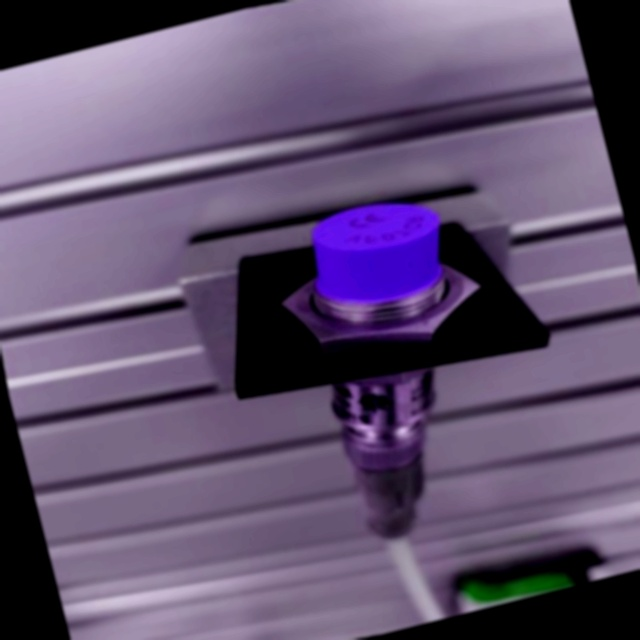inductive sensor: (133, 142, 613, 600)
